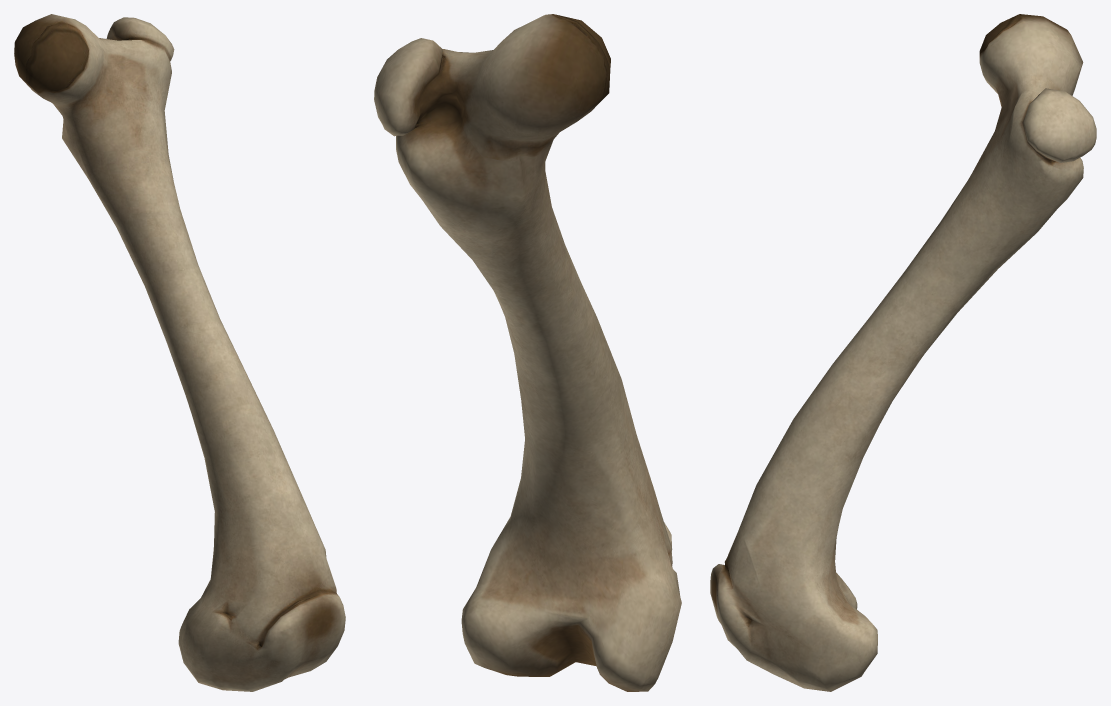
Rendered from Femur.glb.
3 views of the same model, side by side, from view 1: azimuth 30°, elevation 25°; view 2: azimuth 150°, elevation 25°; view 3: azimuth 270°, elevation 25° (orthographic). The views are drawn at different scales.
Visible parts, largest first — view 1: Femur_Left1:Femur_Left; view 2: Femur_Left1:Femur_Left; view 3: Femur_Left1:Femur_Left.
Part boxes in pixels (x1,y1,x2,y2): Femur_Left1:Femur_Left: (14, 14, 345, 691); Femur_Left1:Femur_Left: (374, 14, 681, 691); Femur_Left1:Femur_Left: (710, 14, 1096, 691).
Size of the model in its own units: 39.55 by 121 by 69.47.
1 material, 1 textured.
